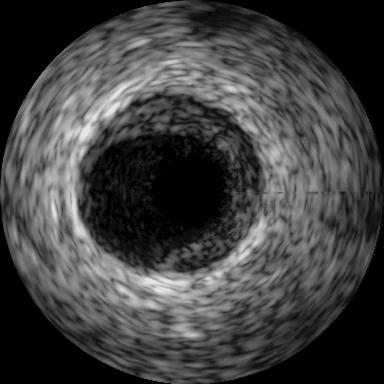Lumen: (153, 147, 228, 237)
